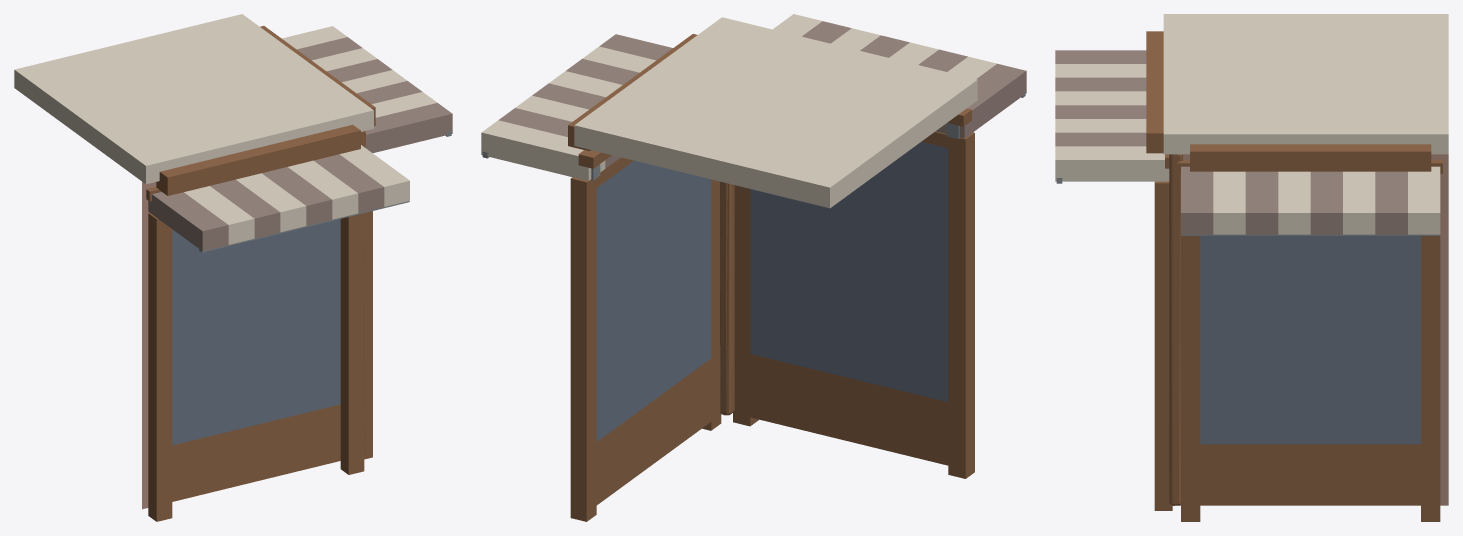
The model's file is CornerShopfront90.glb.
3 views of the same model, side by side, from view 1: azimuth 30°, elevation 25°; view 2: azimuth 150°, elevation 25°; view 3: azimuth 270°, elevation 25° (orthographic). The views are drawn at different scales.
Parts seen in each view (by area): view 1: PBK_floor_band.048, PBK_glass.001, PBK_Continuous_Frame_Brick_Shopfront.003, PBK_glass.005_Frame_Base20.001, PBK_signboard.001, PBK_awning_stripe.009, PBK_awning_stripe.001, PBK_Brick_CornerShopfront90_Exterior_Surface.001, PBK_Continuous_Frame_Brick_Shopfront.004, PBK_awning_stripe.004, PBK_awning_stripe.006, PBK_awning_stripe.002 (+13 smaller); view 2: PBK_floor_band.048, PBK_glass.001, PBK_glass.003, PBK_Continuous_Frame_Brick_Shopfront.003, PBK_glass.005_Frame_Base20.001, PBK_Continuous_Frame_Brick_Shopfront.004, PBK_glass.005_Frame_Base20.002, PBK_awning_stripe.016, PBK_ShopCornerPost90.021, PBK_awning_stripe.001, PBK_awning_stripe.015, PBK_awning_stripe.010 (+13 smaller); view 3: PBK_glass.003, PBK_floor_band.048, PBK_glass.005_Frame_Base20.002, PBK_Continuous_Frame_Brick_Shopfront.004, PBK_signboard.002, PBK_Continuous_Frame_Brick_Shopfront.003, PBK_ShopCornerPost90.021, PBK_awning_stripe.008, PBK_Brick_CornerShopfront90_Exterior_Surface.001, PBK_signboard.001, PBK_awning_stripe.011, PBK_awning_stripe.016 (+14 smaller).
Part boxes in pixels (x1=…): PBK_floor_band.048: x1=14, y1=14, x2=373, y2=184; PBK_glass.001: x1=172, y1=219, x2=340, y2=445; PBK_Continuous_Frame_Brick_Shopfront.003: x1=148, y1=213, x2=364, y2=521; PBK_glass.005_Frame_Base20.001: x1=172, y1=404, x2=340, y2=501; PBK_signboard.001: x1=156, y1=124, x2=360, y2=195; PBK_awning_stripe.009: x1=365, y1=103, x2=452, y2=152; PBK_awning_stripe.001: x1=148, y1=192, x2=228, y2=251; PBK_Brick_CornerShopfront90_Exterior_Surface.001: x1=142, y1=182, x2=156, y2=509; PBK_Continuous_Frame_Brick_Shopfront.004: x1=364, y1=211, x2=372, y2=459; PBK_awning_stripe.004: x1=236, y1=173, x2=306, y2=232; PBK_awning_stripe.006: x1=288, y1=160, x2=358, y2=219; PBK_awning_stripe.002: x1=184, y1=186, x2=254, y2=244; PBK_floor_band.048: x1=574, y1=17, x2=977, y2=208; PBK_glass.001: x1=750, y1=141, x2=948, y2=401; PBK_glass.003: x1=596, y1=160, x2=711, y2=441; PBK_Continuous_Frame_Brick_Shopfront.003: x1=733, y1=131, x2=974, y2=478; PBK_glass.005_Frame_Base20.001: x1=750, y1=354, x2=948, y2=465; PBK_Continuous_Frame_Brick_Shopfront.004: x1=570, y1=157, x2=721, y2=521; PBK_glass.005_Frame_Base20.002: x1=596, y1=358, x2=711, y2=505; PBK_awning_stripe.016: x1=481, y1=120, x2=605, y2=180; PBK_ShopCornerPost90.021: x1=720, y1=181, x2=734, y2=415; PBK_awning_stripe.001: x1=935, y1=63, x2=1026, y2=138; PBK_awning_stripe.015: x1=498, y1=108, x2=620, y2=168; PBK_awning_stripe.010: x1=582, y1=46, x2=655, y2=72; PBK_glass.003: x1=1200, y1=236, x2=1420, y2=444; PBK_floor_band.048: x1=1163, y1=14, x2=1448, y2=154; PBK_glass.005_Frame_Base20.002: x1=1200, y1=444, x2=1420, y2=505; PBK_Continuous_Frame_Brick_Shopfront.004: x1=1181, y1=236, x2=1440, y2=521; PBK_signboard.002: x1=1190, y1=144, x2=1431, y2=171; PBK_Continuous_Frame_Brick_Shopfront.003: x1=1154, y1=181, x2=1172, y2=510; PBK_ShopCornerPost90.021: x1=1169, y1=154, x2=1182, y2=505; PBK_awning_stripe.008: x1=1055, y1=146, x2=1169, y2=181; PBK_Brick_CornerShopfront90_Exterior_Surface.001: x1=1180, y1=154, x2=1448, y2=505; PBK_signboard.001: x1=1146, y1=31, x2=1163, y2=153; PBK_awning_stripe.011: x1=1245, y1=171, x2=1278, y2=234; PBK_awning_stripe.016: x1=1408, y1=166, x2=1440, y2=234.
Size of the model in its own units: 2.85 by 3.07 by 2.85.
